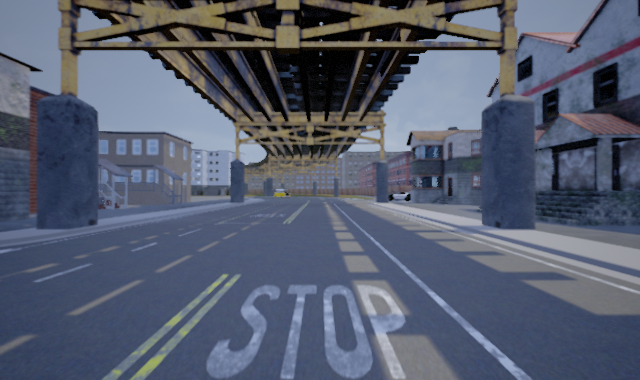vehicle: (387, 189, 412, 202), (270, 187, 289, 198)
